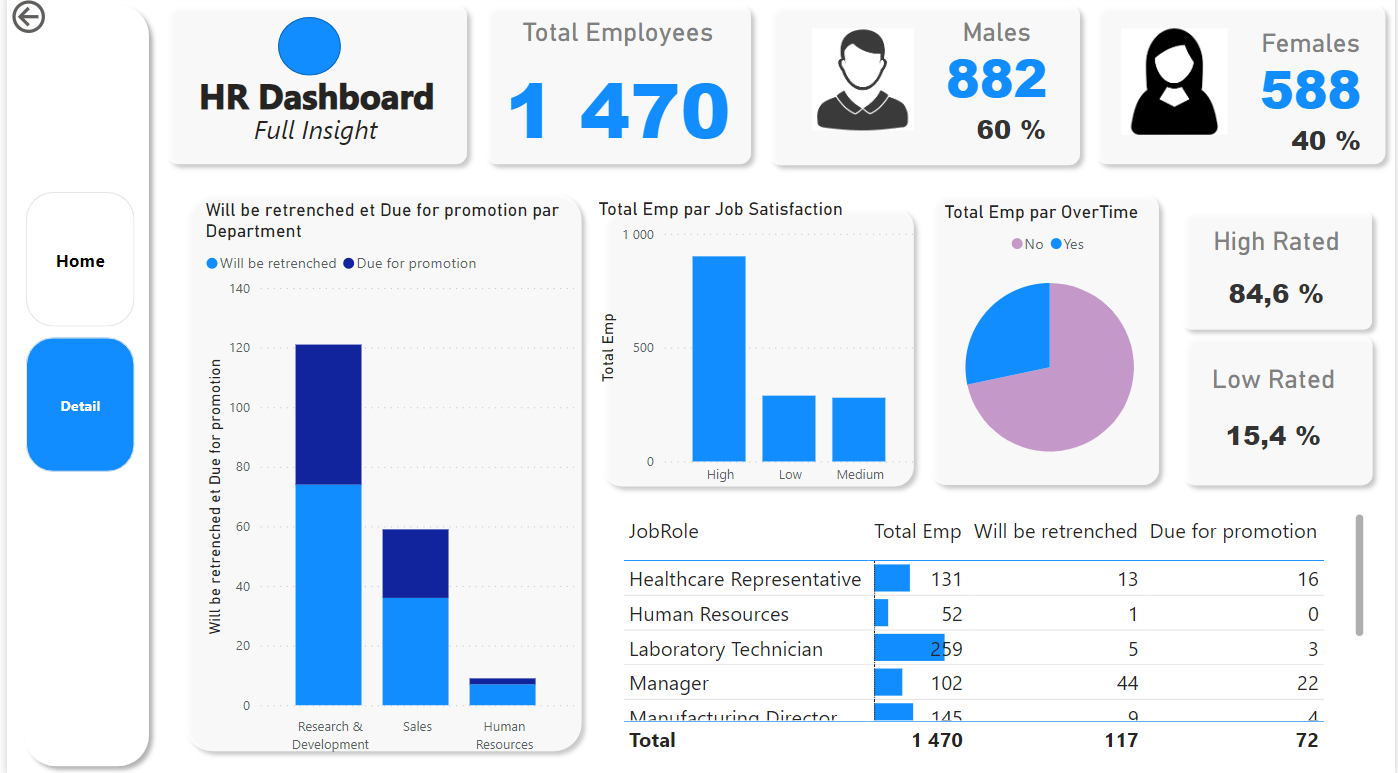

The dashboard page shown, as its layout file describes it:
{"tool":"powerbi","page":{"name":"Detail","canvas":[1280,720],"ordinal":2},"visuals":[{"type":"shape","box":[7.5,0,132.5,720],"z":0},{"type":"shape","box":[138.1,0,294.8,164.9],"z":1000},{"type":"shape","box":[432.5,0,262.5,165],"z":2000},{"type":"shape","box":[694,0,304,166],"z":3000},{"type":"shape","box":[995,0,285,165],"z":4000},{"type":"textbox","box":[152.5,65.6,267,72.2],"z":5000},{"type":"textbox","box":[172.9,101.2,222,54],"z":6000},{"type":"shape","box":[250,20,58,54],"z":7000},{"type":"card","title":"Total Employees","fields":{"Values":["All Measures.Total Emp"]},"box":[448,20,230,136],"z":8000},{"type":"card","title":"Males","fields":{"Values":["All Measures.Male"]},"box":[846,20,132,82],"z":9000},{"type":"card","title":"Males","fields":{"Values":["All Measures.% Male"]},"box":[888,86,76,78],"z":10000},{"type":"card","title":"Females","fields":{"Values":["All Measures.Female"]},"box":[1136,30,132,82],"z":11000},{"type":"card","title":"Males","fields":{"Values":["All Measures.% Female"]},"box":[1178,96,76,78],"z":12000},{"type":"image","box":[732,26,114,104],"z":13000},{"type":"image","box":[1012,26,128,108],"z":14000},{"type":"actionButton","box":[0,0,100,40],"z":15000},{"type":"shape","box":[155.2,173.5,383.8,532.8],"z":16000},{"type":"columnChart","fields":{"Category":["HR Analytics Data.Department"],"Y":["All Measures.Will be retrenched","All Measures.Due for promotion"]},"box":[177.9,188.1,349.8,517.7],"z":17000},{"type":"shape","box":[539.8,187.1,304.7,274.9],"z":18000},{"type":"shape","box":[1075.8,305.3,192.1,155.7],"z":19000},{"type":"shape","box":[842.8,173.9,228.5,286.5],"z":20000},{"type":"shape","box":[1075,190,192.5,127.5],"z":21000},{"type":"columnChart","fields":{"Category":["HR Analytics Data.Job Satisfaction"],"Y":["All Measures.Total Emp"]},"box":[539.8,187.1,303,273.2],"z":22000},{"type":"pieChart","fields":{"Category":["HR Analytics Data.OverTime"],"Y":["All Measures.Total Emp"]},"box":[859.5,189.9,204.1,257.2],"z":23000},{"type":"tableEx","fields":{"Values":["HR Analytics Data.JobRole","All Measures.Total Emp","All Measures.Will be retrenched","All Measures.Due for promotion"]},"box":[562.1,473.2,693.6,232.5],"z":24000},{"type":"card","title":"High Rated","fields":{"Values":["All Measures.% High Rated"]},"box":[1077.5,212.5,185,100],"z":25000},{"type":"card","title":"Low Rated","fields":{"Values":["All Measures.% Low Rated"]},"box":[1075,340,185,107.5],"z":26000},{"type":"pageNavigator","box":[17.2,181.8,100,259.6],"z":27000}]}

Visuals, with their boxes in screenshot pixels (x1, y1, x2, y2), scaled from the page's 1280x720 canvas onto the 1398x773 screenshot:
shape: (left=8, top=0, right=153, bottom=772)
shape: (left=151, top=0, right=473, bottom=177)
shape: (left=472, top=0, right=759, bottom=177)
shape: (left=758, top=0, right=1090, bottom=178)
shape: (left=1087, top=0, right=1397, bottom=177)
textbox: (left=167, top=70, right=458, bottom=148)
textbox: (left=189, top=109, right=431, bottom=167)
shape: (left=273, top=21, right=336, bottom=79)
"Total Employees" card: (left=489, top=21, right=741, bottom=167)
"Males" card: (left=924, top=21, right=1068, bottom=110)
"Males" card: (left=970, top=92, right=1053, bottom=176)
"Females" card: (left=1241, top=32, right=1385, bottom=120)
"Males" card: (left=1287, top=103, right=1370, bottom=187)
image: (left=799, top=28, right=924, bottom=140)
image: (left=1105, top=28, right=1245, bottom=144)
actionButton: (left=0, top=0, right=109, bottom=43)
shape: (left=170, top=186, right=589, bottom=758)
columnChart - HR Analytics Data.Department x All Measures.Will be retrenched: (left=194, top=202, right=576, bottom=758)
shape: (left=590, top=201, right=922, bottom=496)
shape: (left=1175, top=328, right=1385, bottom=495)
shape: (left=920, top=187, right=1170, bottom=494)
shape: (left=1174, top=204, right=1384, bottom=341)
columnChart - HR Analytics Data.Job Satisfaction x All Measures.Total Emp: (left=590, top=201, right=920, bottom=494)
pieChart - HR Analytics Data.OverTime x All Measures.Total Emp: (left=939, top=204, right=1162, bottom=480)
tableEx - HR Analytics Data.JobRole x All Measures.Total Emp: (left=614, top=508, right=1371, bottom=758)
"High Rated" card: (left=1177, top=228, right=1379, bottom=336)
"Low Rated" card: (left=1174, top=365, right=1376, bottom=480)
pageNavigator: (left=19, top=195, right=128, bottom=474)
